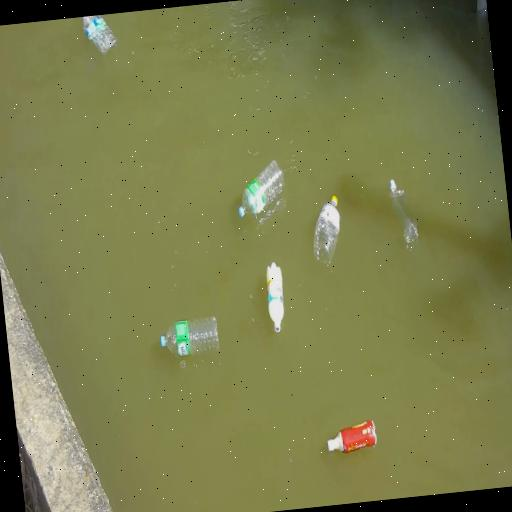plastic: (238, 161, 283, 218), (160, 317, 218, 356), (389, 179, 417, 250), (313, 197, 339, 264), (327, 420, 376, 453), (82, 16, 116, 54), (266, 262, 283, 332)
